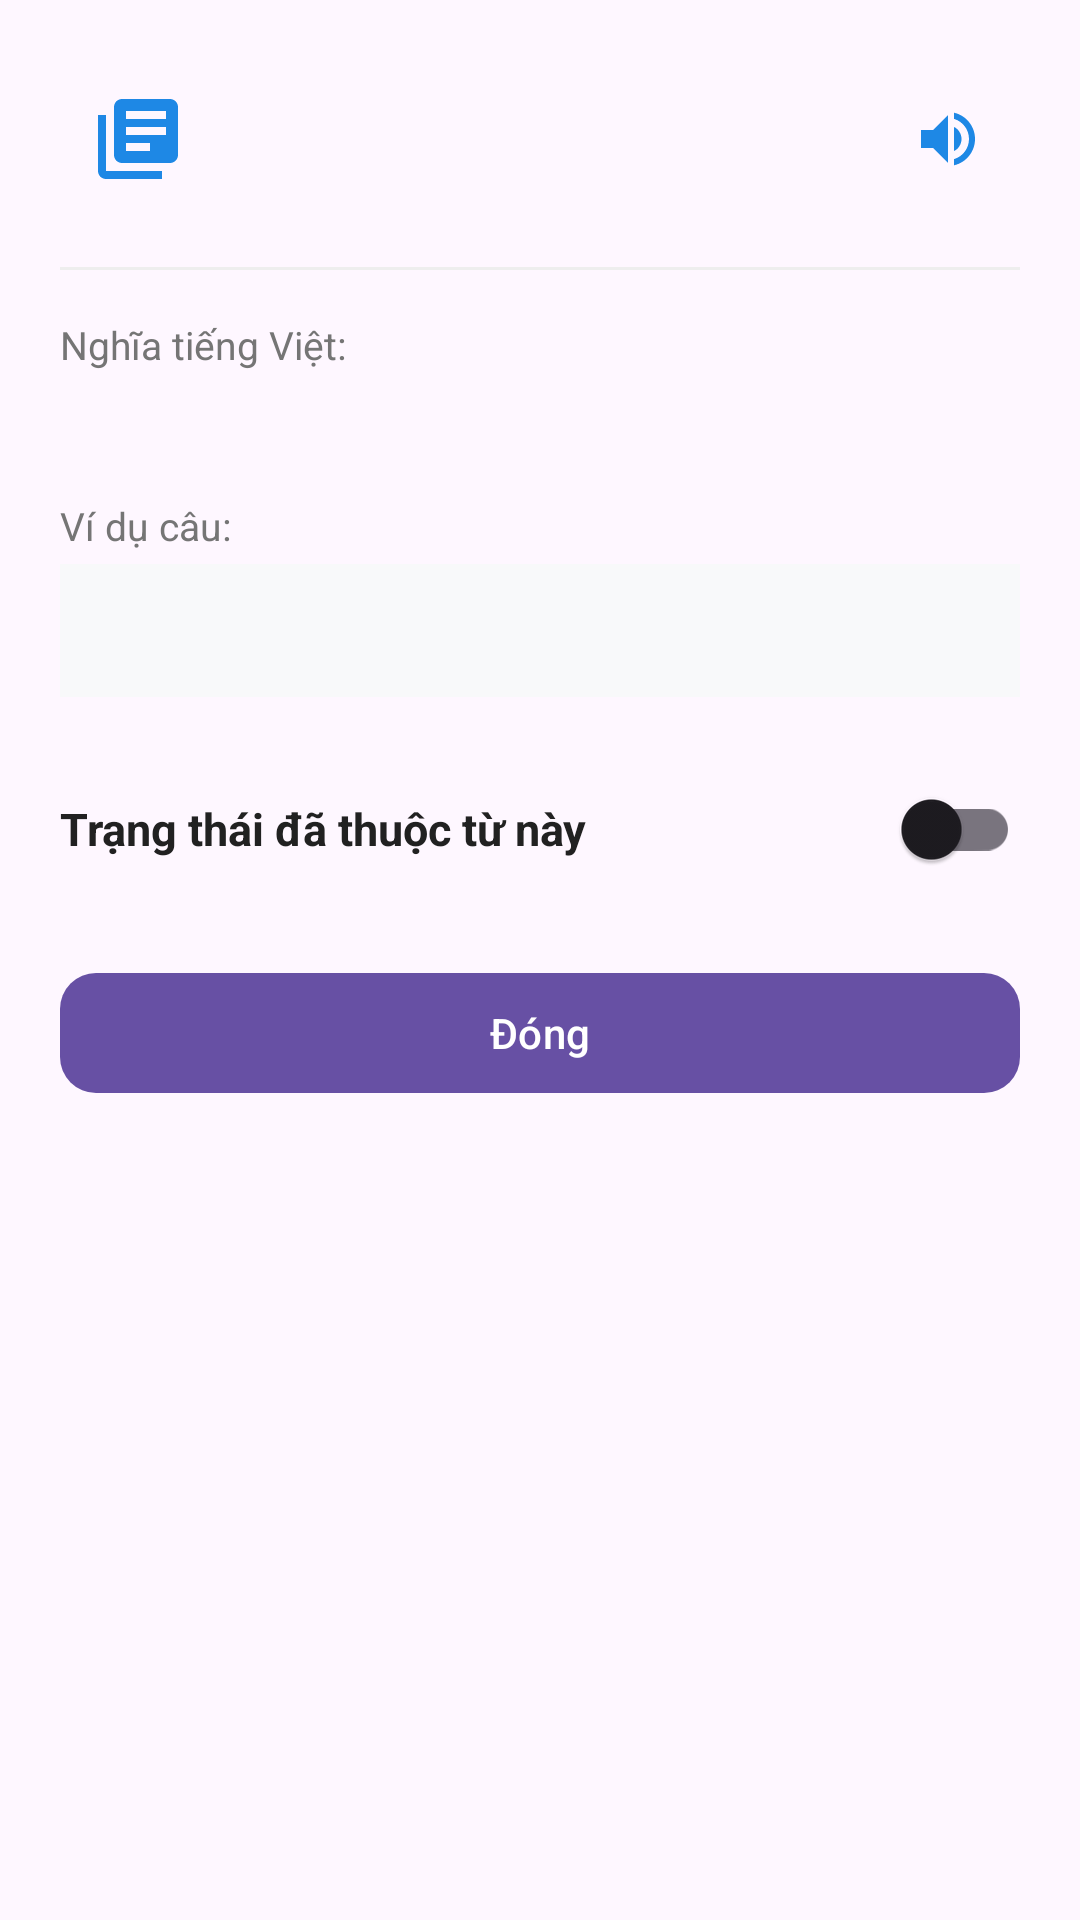

Where icons sit on this 1080w x 1920h app screen, as (x1, y1, x2, y2):
Phát âm: (921, 112, 975, 166)
word: (98, 99, 178, 179)
